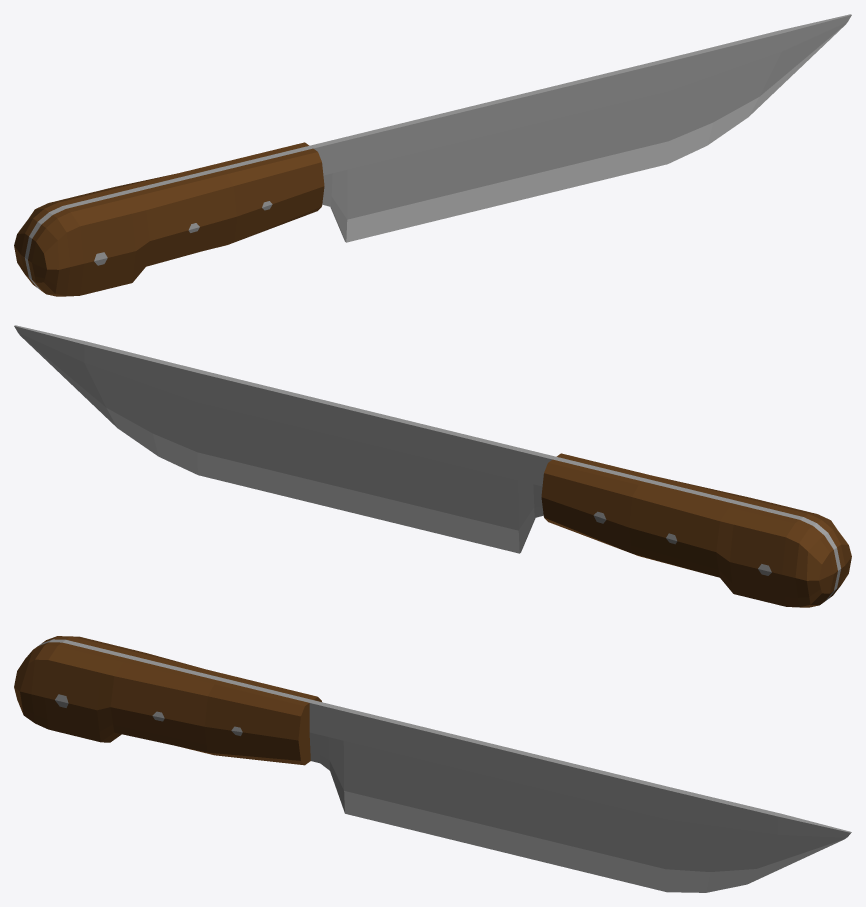
Rendered from knife_f.fbx.
3 views of the same model, one above another, from view 1: azimuth 30°, elevation 25°; view 2: azimuth 150°, elevation 25°; view 3: azimuth 330°, elevation 25° (orthographic).
Parts seen in each view (by area): view 1: Cube; view 2: Cube; view 3: Cube.
Part boxes in pixels (left/top/right/bottom): Cube: left=14, top=14, right=851, bottom=296; Cube: left=14, top=325, right=851, bottom=607; Cube: left=14, top=636, right=851, bottom=892.
Bounding box in the file's own units: 257 × 31.01 × 21.17.
